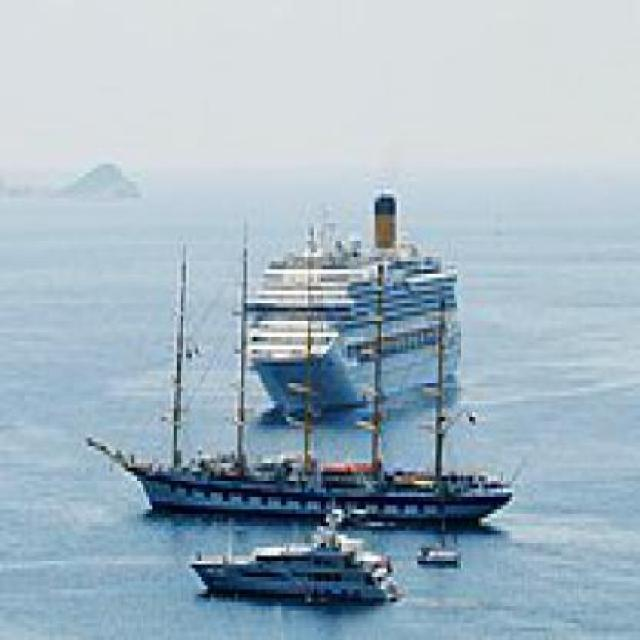cruise: (229, 178, 471, 418)
